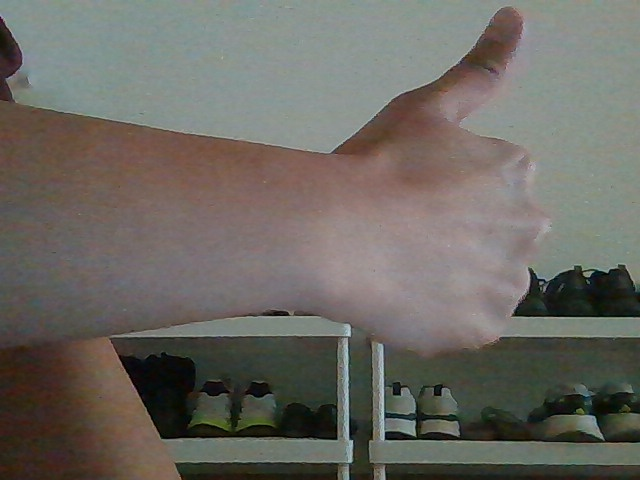Thumbs up: (327, 2, 557, 360)
